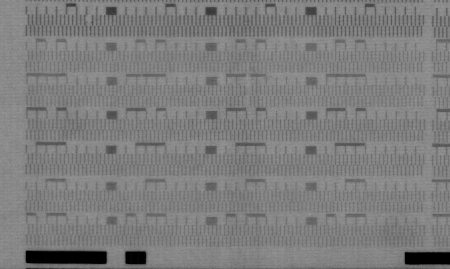Broken hole: (242, 87, 254, 107), (83, 14, 95, 27)
